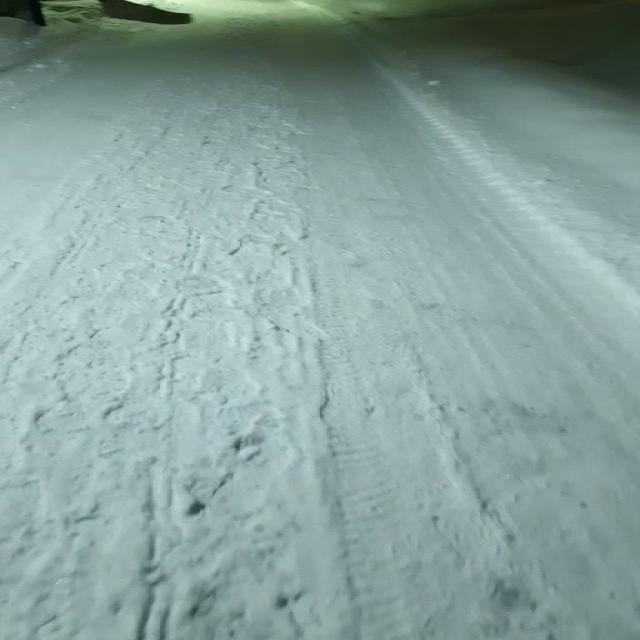path: (0, 0, 640, 640)
